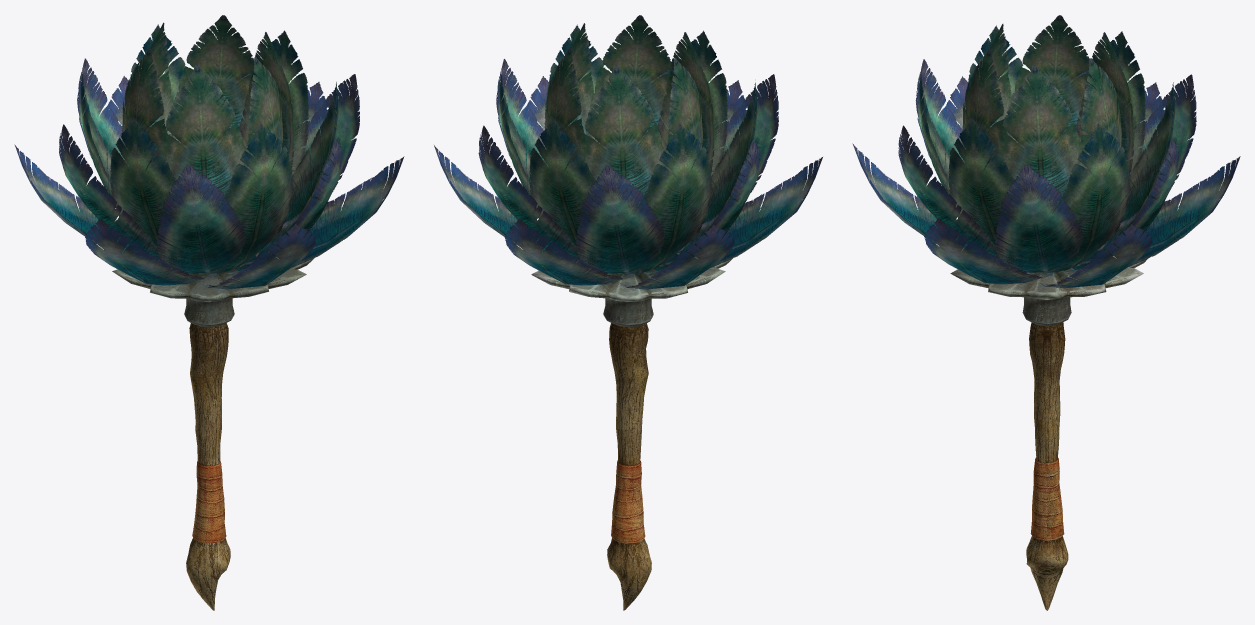
File: ham002.obj
3 views of the same model, side by side, from view 1: azimuth 30°, elevation 25°; view 2: azimuth 150°, elevation 25°; view 3: azimuth 270°, elevation 25° (orthographic).
Parts seen in each view (by area): view 1: ham002_009_LOD_1, ham002_007_LOD_1, ham002_005_LOD_1, ham002_003_LOD_1, ham002_000_LOD_1, ham002_001_LOD_1, ham002_008_LOD_1, ham002_006_LOD_1, ham002_004_LOD_1, ham002_002_LOD_1; view 2: ham002_009_LOD_1, ham002_007_LOD_1, ham002_005_LOD_1, ham002_003_LOD_1, ham002_000_LOD_1, ham002_001_LOD_1, ham002_008_LOD_1, ham002_006_LOD_1, ham002_004_LOD_1, ham002_002_LOD_1; view 3: ham002_009_LOD_1, ham002_007_LOD_1, ham002_005_LOD_1, ham002_003_LOD_1, ham002_000_LOD_1, ham002_001_LOD_1, ham002_008_LOD_1, ham002_006_LOD_1, ham002_004_LOD_1, ham002_002_LOD_1.
Part boxes in pixels (bbox=[...]): ham002_009_LOD_1: bbox=[122, 15, 293, 274]; ham002_007_LOD_1: bbox=[80, 24, 338, 274]; ham002_005_LOD_1: bbox=[59, 36, 359, 273]; ham002_003_LOD_1: bbox=[14, 76, 404, 289]; ham002_000_LOD_1: bbox=[186, 323, 230, 610]; ham002_001_LOD_1: bbox=[104, 250, 315, 327]; ham002_008_LOD_1: bbox=[123, 17, 293, 207]; ham002_006_LOD_1: bbox=[83, 27, 337, 268]; ham002_004_LOD_1: bbox=[59, 63, 359, 271]; ham002_002_LOD_1: bbox=[16, 78, 393, 285]; ham002_009_LOD_1: bbox=[545, 15, 714, 275]; ham002_007_LOD_1: bbox=[499, 24, 757, 274]; ham002_005_LOD_1: bbox=[478, 34, 778, 274]; ham002_003_LOD_1: bbox=[434, 76, 822, 289]; ham002_000_LOD_1: bbox=[607, 323, 651, 610]; ham002_001_LOD_1: bbox=[523, 250, 733, 327]; ham002_008_LOD_1: bbox=[546, 15, 713, 202]; ham002_006_LOD_1: bbox=[501, 26, 757, 267]; ham002_004_LOD_1: bbox=[479, 62, 778, 273]; ham002_002_LOD_1: bbox=[435, 76, 817, 284]; ham002_009_LOD_1: bbox=[962, 15, 1133, 251]; ham002_007_LOD_1: bbox=[919, 25, 1174, 273]; ham002_005_LOD_1: bbox=[898, 34, 1196, 272]; ham002_003_LOD_1: bbox=[853, 76, 1240, 288]; ham002_000_LOD_1: bbox=[1026, 322, 1068, 610]; ham002_001_LOD_1: bbox=[939, 246, 1147, 326]; ham002_008_LOD_1: bbox=[963, 15, 1133, 192]; ham002_006_LOD_1: bbox=[921, 27, 1174, 267]; ham002_004_LOD_1: bbox=[899, 51, 1195, 269]; ham002_002_LOD_1: bbox=[855, 79, 1234, 283].
Size of the model in its own units: 120 by 215 by 133.
